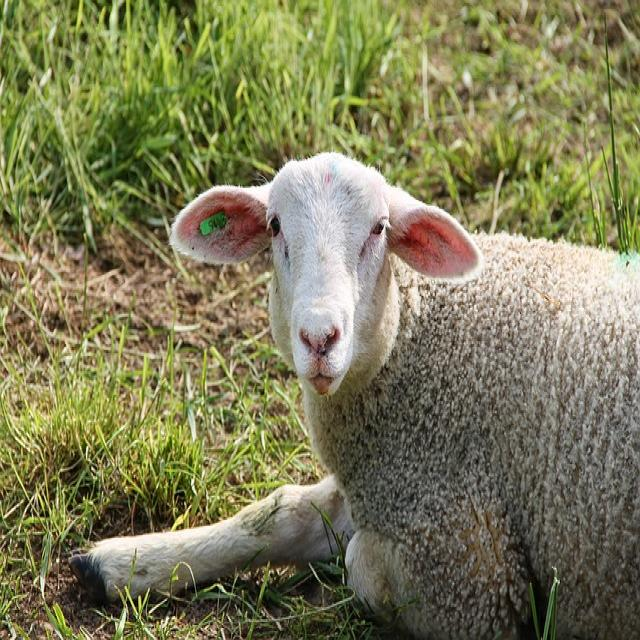sheep: (68, 148, 639, 638)
